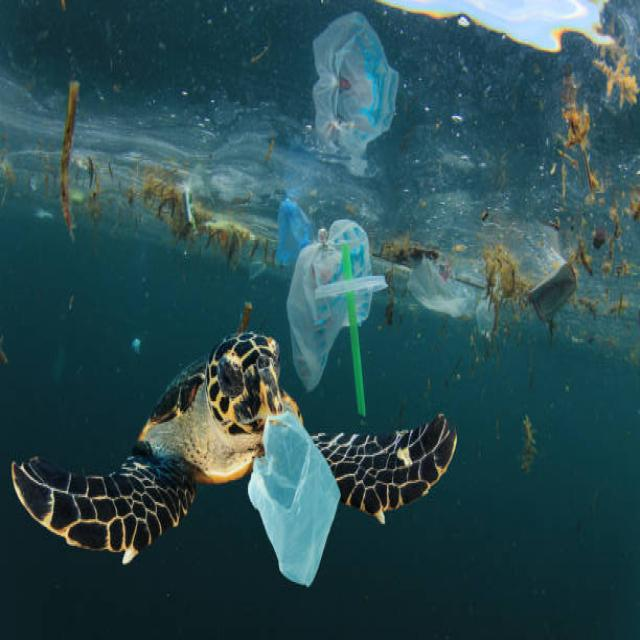plastic: (293, 2, 396, 416)
